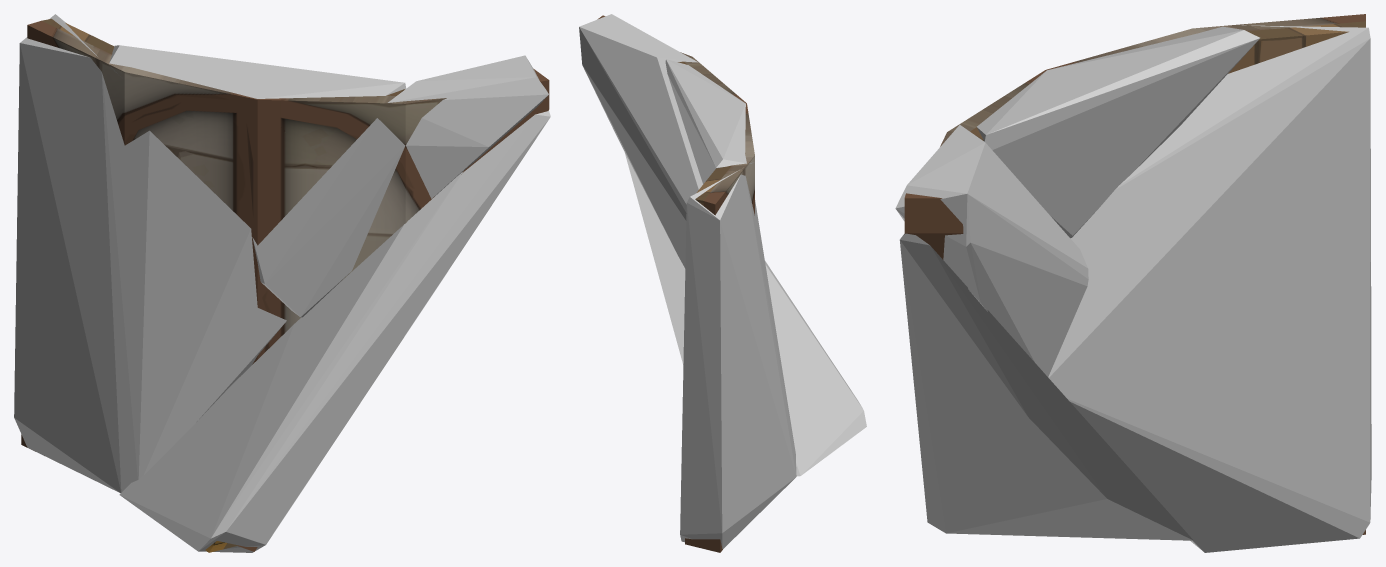
File: SM_Bld_Roof_Straight_Tower_02.fbx
3 views of the same model, side by side, from view 1: azimuth 30°, elevation 25°; view 2: azimuth 150°, elevation 25°; view 3: azimuth 270°, elevation 25° (orthographic). The views are drawn at different scales.
Visible parts, largest first — view 1: SM_Bld_Roof_Straight_Tower_02_ConvexHulls, SM_Bld_Roof_Straight_Tower_02; view 2: SM_Bld_Roof_Straight_Tower_02_ConvexHulls, SM_Bld_Roof_Straight_Tower_02; view 3: SM_Bld_Roof_Straight_Tower_02_ConvexHulls, SM_Bld_Roof_Straight_Tower_02.
Boxes of the visible parts, x1,y1,x2,y2 form: SM_Bld_Roof_Straight_Tower_02_ConvexHulls: (14, 14, 550, 552); SM_Bld_Roof_Straight_Tower_02: (21, 18, 549, 552); SM_Bld_Roof_Straight_Tower_02_ConvexHulls: (579, 14, 866, 548); SM_Bld_Roof_Straight_Tower_02: (597, 15, 754, 552); SM_Bld_Roof_Straight_Tower_02_ConvexHulls: (895, 25, 1371, 552); SM_Bld_Roof_Straight_Tower_02: (904, 14, 1365, 534).
Size of the model in its own units: 272 by 275 by 328.
Materials: 5 (4 with a texture image).
